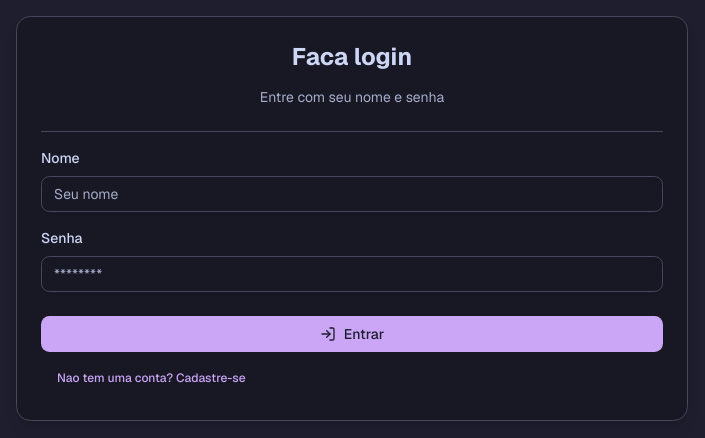
LoginPage › switches to the register form when the "Register" button is clicked
The width and height of the screenshot is (705, 438).
Click the button "Nao tem uma conta? Cadastre-se": (151, 378) [41, 360, 262, 396]
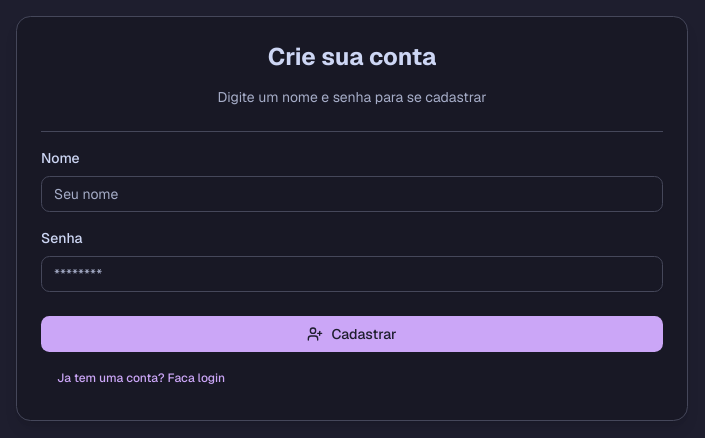
Expected: the heading "Crie sua conta" is shown, [268, 40, 436, 72]
